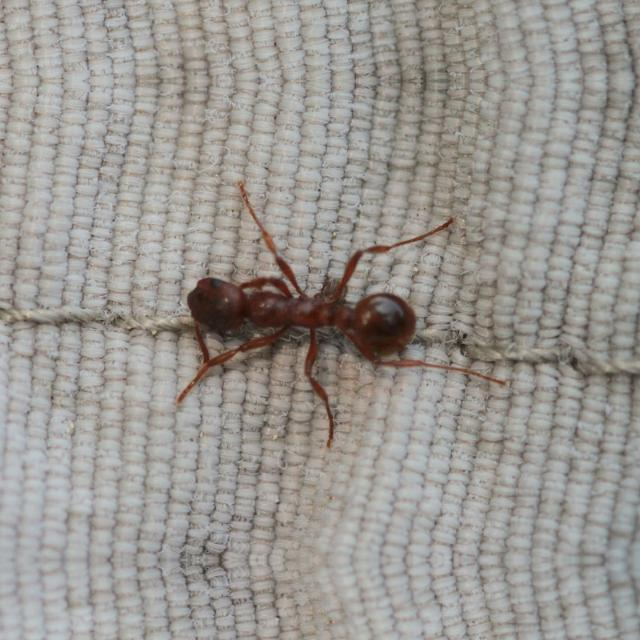Myrmica: (141, 211, 463, 409)
